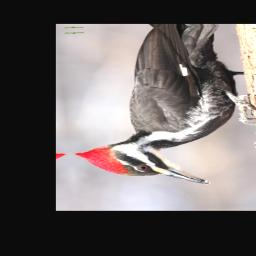Woodpecker: (60, 25, 256, 190)
